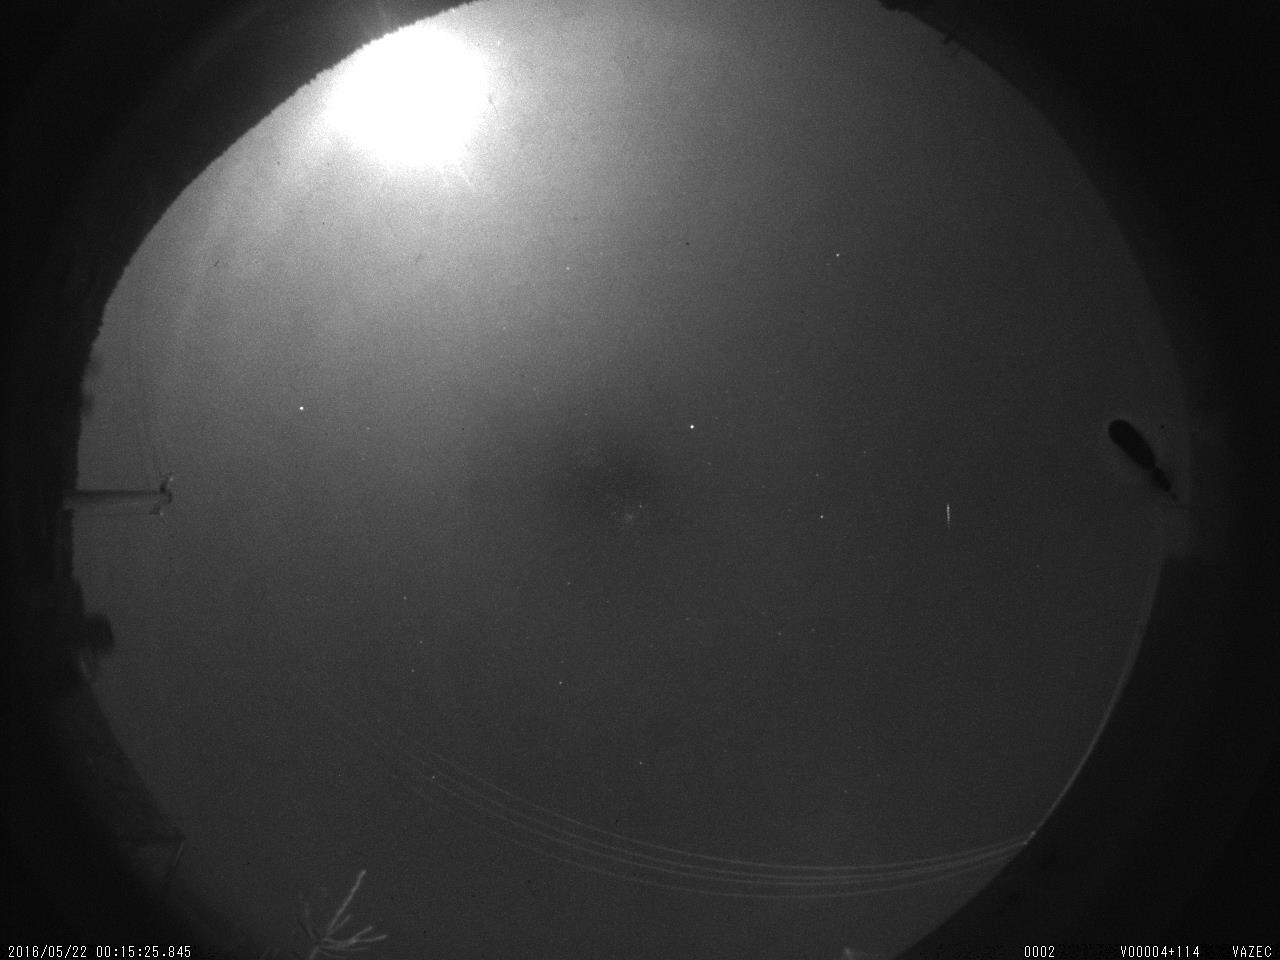meteor: (937, 490, 972, 568)
